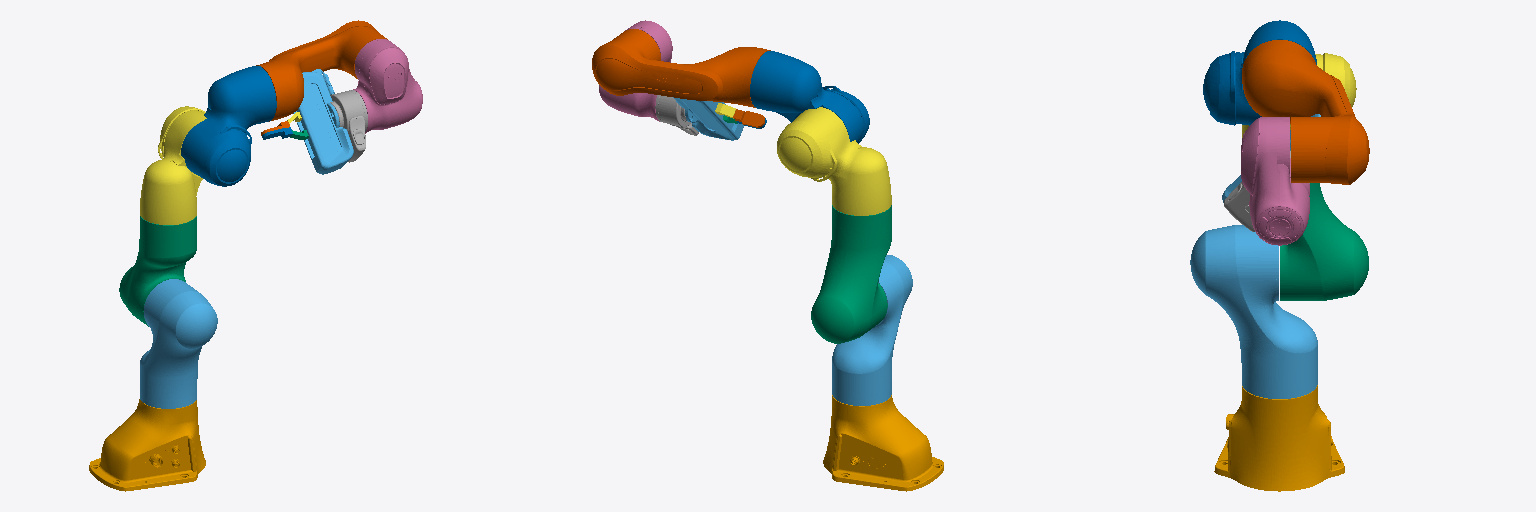
The robot description file, URDF, robot "panda":
<?xml version="1.0" encoding="utf-8"?>
<!-- =================================================================================== -->
<!-- |    This document is a hand edited version of the output autogenerated by xacro  | -->
<!-- |    from panda_arm_hand.urdf.xacro                                               | -->
<!-- =================================================================================== -->
<robot xmlns:drake="http://drake.mit.edu" name="panda">
  <link name="panda_link0">
    <inertial>
      <mass value="2.92"/>
      <origin xyz="-0.025566 -2.88e-05 0.057332" rpy="0 0 0"/>
      <inertia ixx="0.00782229414331" ixy="-1.56191622996e-05" ixz="-0.00126005738123" iyy="0.0109027971813" iyz="1.08233858202e-05" izz="0.0102355503949"/>
    </inertial>
    <visual>
      <origin rpy="1.57079632679 0 0"/>
      <geometry>
        <mesh filename="meshes/visual_drake/link0.obj"/>
      </geometry>
    </visual>
    <collision>
      <origin rpy="0 0 0" xyz="0.02 0.0 0.04"/>
      <geometry>
        <sphere radius="0.06"/>
      </geometry>
    </collision>
    <collision>
      <origin rpy="0 0 0" xyz="0.01 0.05 0.06"/>
      <geometry>
        <sphere radius="0.06"/>
      </geometry>
    </collision>
    <collision>
      <origin rpy="0 0 0" xyz="0.01 -0.05 0.06"/>
      <geometry>
        <sphere radius="0.06"/>
      </geometry>
    </collision>
    <collision>
      <origin rpy="0 0 0" xyz="-0.06 0.0 0.06"/>
      <geometry>
        <sphere radius="0.06"/>
      </geometry>
    </collision>
    <collision>
      <origin rpy="0 0 0" xyz="-0.06 0.05 0.06"/>
      <geometry>
        <sphere radius="0.06"/>
      </geometry>
    </collision>
    <collision>
      <origin rpy="0 0 0" xyz="-0.03 0.05 0.06"/>
      <geometry>
        <sphere radius="0.06"/>
      </geometry>
    </collision>
    <collision>
      <origin rpy="0 0 0" xyz="-0.03 -0.05 0.06"/>
      <geometry>
        <sphere radius="0.06"/>
      </geometry>
    </collision>
    <collision>
      <origin rpy="0 0 0" xyz="-0.06 -0.05 0.06"/>
      <geometry>
        <sphere radius="0.06"/>
      </geometry>
    </collision>
    <collision>
      <origin rpy="0 0 0" xyz="-0.09 -0.05 0.06"/>
      <geometry>
        <sphere radius="0.06"/>
      </geometry>
    </collision>
    <collision>
      <origin rpy="0 0 0" xyz="-0.09 0.0 0.06"/>
      <geometry>
        <sphere radius="0.06"/>
      </geometry>
    </collision>
    <collision>
      <origin rpy="0 0 0" xyz="-0.09 0.05 0.06"/>
      <geometry>
        <sphere radius="0.06"/>
      </geometry>
    </collision>
    <collision>
      <origin rpy="0 0 0" xyz="-0.12 0.0 0.06"/>
      <geometry>
        <sphere radius="0.06"/>
      </geometry>
    </collision>
    <collision>
      <origin rpy="0 0 0" xyz="0.0 0.0 0.113"/>
      <geometry>
        <sphere radius="0.06"/>
      </geometry>
    </collision>
    <collision>
      <origin rpy="0 0 0" xyz="0.0 0.0 0.083"/>
      <geometry>
        <sphere radius="0.06"/>
      </geometry>
    </collision>
  </link>
  <link name="panda_link1">
    <inertial>
      <mass value="2.74"/>
      <origin xyz="0 -0.0324958 -0.0675818" rpy="0 0 0"/>
      <inertia ixx="0.0180416958283" ixy="0.0" ixz="0.0" iyy="0.0159136071891" iyz="0.0046758424612" izz="0.00620690827127"/>
    </inertial>
    <visual>
      <origin rpy="1.57079632679 0 0"/>
      <geometry>
        <mesh filename="meshes/visual_drake/link1.obj"/>
      </geometry>
    </visual>
    <collision>
      <origin rpy="0 0 0" xyz="0.0 0.0 -0.13"/>
      <geometry>
        <sphere radius="0.06"/>
      </geometry>
    </collision>
    <collision>
      <origin rpy="0 0 0" xyz="0.0 0.0 -0.16"/>
      <geometry>
        <sphere radius="0.06"/>
      </geometry>
    </collision>
    <collision>
      <origin rpy="0 0 0" xyz="0.0 0.0 -0.19"/>
      <geometry>
        <sphere radius="0.06"/>
      </geometry>
    </collision>
    <collision>
      <origin rpy="0 0 0" xyz="0.0 -0.04 -0.06"/>
      <geometry>
        <sphere radius="0.06"/>
      </geometry>
    </collision>
    <collision>
      <origin rpy="0 0 0" xyz="0.0 -0.0750 -0.0"/>
      <geometry>
        <sphere radius="0.06"/>
      </geometry>
    </collision>
    <collision>
      <origin rpy="0 0 0" xyz="0.0 -0.0350 -0.0"/>
      <geometry>
        <sphere radius="0.06"/>
      </geometry>
    </collision>
  </link>
  <joint name="panda_joint1" type="revolute">
    <safety_controller k_position="100.0" k_velocity="40.0" soft_lower_limit="-2.8973" soft_upper_limit="2.8973"/>
    <origin rpy="0 0 0" xyz="0 0 0.333"/>
    <parent link="panda_link0"/>
    <child link="panda_link1"/>
    <axis xyz="0 0 1"/>
    <limit effort="87" lower="-2.8973" upper="2.8973" velocity="2.1750"/>
  </joint>
  <link name="panda_link2">
    <inertial>
      <mass value="2.74"/>
      <origin xyz="0 -0.06861 0.0322285" rpy="0 0 0"/>
      <inertia ixx="0.0182856182281" ixy="0.0" ixz="0.0" iyy="0.00621358421175" iyz="-0.00472844221905" izz="0.0161514346309"/>
    </inertial>
    <visual>
      <origin rpy="1.57079632679 0 0"/>
      <geometry>
        <mesh filename="meshes/visual_drake/link2.obj"/>
      </geometry>
    </visual>
    <collision>
      <origin rpy="0 0 0" xyz="0.0 0.0 0.0"/>
      <geometry>
        <sphere radius="0.06"/>
      </geometry>
    </collision>
    <collision>
      <origin rpy="0 0 0" xyz="0.0 0.0 0.035"/>
      <geometry>
        <sphere radius="0.06"/>
      </geometry>
    </collision>
    <collision>
      <origin rpy="0 0 0" xyz="0.0 0.0 0.075"/>
      <geometry>
        <sphere radius="0.06"/>
      </geometry>
    </collision>
    <collision>
      <origin rpy="0 0 0" xyz="0.0 -0.1710 0.0"/>
      <geometry>
        <sphere radius="0.06"/>
      </geometry>
    </collision>
    <collision>
      <origin rpy="0 0 0" xyz="0.0 -0.1360 0.0"/>
      <geometry>
        <sphere radius="0.06"/>
      </geometry>
    </collision>
    <collision>
      <origin rpy="0 0 0" xyz="0.0 -0.070 0.040"/>
      <geometry>
        <sphere radius="0.06"/>
      </geometry>
    </collision>
  </link>
  <joint name="panda_joint2" type="revolute">
    <safety_controller k_position="100.0" k_velocity="40.0" soft_lower_limit="-1.7628" soft_upper_limit="1.7628"/>
    <origin rpy="-1.57079632679 0 0" xyz="0 0 0"/>
    <parent link="panda_link1"/>
    <child link="panda_link2"/>
    <axis xyz="0 0 1"/>
    <limit effort="87" lower="-1.7628" upper="1.7628" velocity="2.1750"/>
  </joint>
  <link name="panda_link3">
    <inertial>
      <mass value="2.38"/>
      <origin xyz="0.0469893 0.0316374 -0.031704" rpy="0 0 0"/>
      <inertia ixx="0.00771376630908" ixy="-0.00248490625138" ixz="-0.00332147581033" iyy="0.00989108008727" iyz="-0.00217796151484" izz="0.00811723558464"/>
    </inertial>
    <visual>
      <origin rpy="1.57079632679 0 0"/>
      <geometry>
        <mesh filename="meshes/visual_drake/link3.obj"/>
      </geometry>
    </visual>
    <collision>
      <origin rpy="0 0 0" xyz="0.0 0.0 -0.11"/>
      <geometry>
        <sphere radius="0.06"/>
      </geometry>
    </collision>
    <collision>
      <origin rpy="0 0 0" xyz="0.0 0.0 -0.07"/>
      <geometry>
        <sphere radius="0.06"/>
      </geometry>
    </collision>
    <collision>
      <origin rpy="0 0 0" xyz="0.0825 0.03 -0.0"/>
      <geometry>
        <sphere radius="0.06"/>
      </geometry>
    </collision>
    <collision>
      <origin rpy="0 0 0" xyz="0.0825 0.06 -0.0"/>
      <geometry>
        <sphere radius="0.06"/>
      </geometry>
    </collision>
    <collision>
      <origin rpy="0 0 0" xyz="0.04 0.03 -0.03"/>
      <geometry>
        <sphere radius="0.06"/>
      </geometry>
    </collision>
  </link>
  <joint name="panda_joint3" type="revolute">
    <safety_controller k_position="100.0" k_velocity="40.0" soft_lower_limit="-2.8973" soft_upper_limit="2.8973"/>
    <origin rpy="1.57079632679 0 0" xyz="0 -0.316 0"/>
    <parent link="panda_link2"/>
    <child link="panda_link3"/>
    <axis xyz="0 0 1"/>
    <limit effort="87" lower="-2.8973" upper="2.8973" velocity="2.1750"/>
  </joint>
  <link name="panda_link4">
    <inertial>
      <mass value="2.38"/>
      <origin xyz="-0.0360446 0.0336853 0.031882" rpy="0 0 0"/>
      <inertia ixx="0.00799663881132" ixy="0.00347095570217" ixz="-0.00241222942995" iyy="0.00825390705278" iyz="0.00235774044121" izz="0.0102515004345"/>
    </inertial>
    <visual>
      <origin rpy="1.57079632679 0 0"/>
      <geometry>
        <mesh filename="meshes/visual_drake/link4.obj"/>
      </geometry>
    </visual>
    <collision>
      <origin rpy="0 0 0" xyz="0.0 0.0 0.06"/>
      <geometry>
        <sphere radius="0.06"/>
      </geometry>
    </collision>
    <collision>
      <origin rpy="0 0 0" xyz="0.0 0.0 0.03"/>
      <geometry>
        <sphere radius="0.06"/>
      </geometry>
    </collision>
    <collision>
      <origin rpy="0 0 0" xyz="-0.0350 0.03 0.04"/>
      <geometry>
        <sphere radius="0.05"/>
      </geometry>
    </collision>
    <collision>
      <origin rpy="0 0 0" xyz="-0.05 0.04 0.01"/>
      <geometry>
        <sphere radius="0.055"/>
      </geometry>
    </collision>
    <collision>
      <origin rpy="0 0 0" xyz="0.0 0.0 0.0"/>
      <geometry>
        <sphere radius="0.06"/>
      </geometry>
    </collision>
    <collision>
      <origin rpy="0 0 0" xyz="-0.0825 0.0640 -0.0"/>
      <geometry>
        <sphere radius="0.06"/>
      </geometry>
    </collision>
    <collision>
      <origin rpy="0 0 0" xyz="-0.0825 0.1040 -0.0"/>
      <geometry>
        <sphere radius="0.06"/>
      </geometry>
    </collision>
  </link>
  <joint name="panda_joint4" type="revolute">
    <safety_controller k_position="100.0" k_velocity="40.0" soft_lower_limit="-3.0718" soft_upper_limit="-0.0698"/>
    <origin rpy="1.57079632679 0 0" xyz="0.0825 0 0"/>
    <parent link="panda_link3"/>
    <child link="panda_link4"/>
    <axis xyz="0 0 1"/>
    <limit effort="87" lower="-3.0718" upper="-0.0698" velocity="2.1750"/>
  </joint>
  <link name="panda_link5">
    <inertial>
      <mass value="2.74"/>
      <origin xyz="0 0.0610427 -0.104176" rpy="0 0 0"/>
      <inertia ixx="0.030371374513" ixy="6.50283587108e-07" ixz="-1.05129179916e-05" iyy="0.0288752887402" iyz="-0.00775653445787" izz="0.00444134056164"/>
    </inertial>
    <visual>
      <origin rpy="1.57079632679 0 0"/>
      <geometry>
        <mesh filename="meshes/visual_drake/link5.obj"/>
      </geometry>
    </visual>
    <collision>
      <origin rpy="0 0 0" xyz="0.0 0.0 -0.24"/>
      <geometry>
        <sphere radius="0.06"/>
      </geometry>
    </collision>
    <collision>
      <origin rpy="0 0 0" xyz="0.0 0.0 -0.21"/>
      <geometry>
        <sphere radius="0.06"/>
      </geometry>
    </collision>
    <collision>
      <origin rpy="0 0 0" xyz="0.0 0.09 -0.055"/>
      <geometry>
        <sphere radius="0.035"/>
      </geometry>
    </collision>
    <collision>
      <origin rpy="0 0 0" xyz="0.0 0.0850 -0.08"/>
      <geometry>
        <sphere radius="0.035"/>
      </geometry>
    </collision>
    <collision>
      <origin rpy="0 0 0" xyz="0.0 0.0850 -0.11"/>
      <geometry>
        <sphere radius="0.035"/>
      </geometry>
    </collision>
    <collision>
      <origin rpy="0 0 0" xyz="0.0 0.08 -0.13"/>
      <geometry>
        <sphere radius="0.035"/>
      </geometry>
    </collision>
    <collision>
      <origin rpy="0 0 0" xyz="0.0 0.08 -0.15"/>
      <geometry>
        <sphere radius="0.035"/>
      </geometry>
    </collision>
    <collision>
      <origin rpy="0 0 0" xyz="0.0 0.07 -0.16"/>
      <geometry>
        <sphere radius="0.04"/>
      </geometry>
    </collision>
    <collision>
      <origin rpy="0 0 0" xyz="0.0 0.08 -0.02"/>
      <geometry>
        <sphere radius="0.05"/>
      </geometry>
    </collision>
    <collision>
      <origin rpy="0 0 0" xyz="0.0 0.08 -0.0"/>
      <geometry>
        <sphere radius="0.055"/>
      </geometry>
    </collision>
    <collision>
      <origin rpy="0 0 0" xyz="0.0 0.05 -0.20"/>
      <geometry>
        <sphere radius="0.055"/>
      </geometry>
    </collision>
    <collision>
      <origin rpy="0 0 0" xyz="0.0 0.07 -0.0"/>
      <geometry>
        <sphere radius="0.06"/>
      </geometry>
    </collision>
  </link>
  <joint name="panda_joint5" type="revolute">
    <safety_controller k_position="100.0" k_velocity="40.0" soft_lower_limit="-2.8973" soft_upper_limit="2.8973"/>
    <origin rpy="-1.57079632679 0 0" xyz="-0.0825 0.384 0"/>
    <parent link="panda_link4"/>
    <child link="panda_link5"/>
    <axis xyz="0 0 1"/>
    <limit effort="12" lower="-2.8973" upper="2.8973" velocity="2.6100"/>
  </joint>
  <link name="panda_link6">
    <inertial>
      <mass value="1.55"/>
      <origin xyz="0.0510509 0.009108 0.0106343" rpy="0 0 0"/>
      <inertia ixx="0.00303336450376" ixy="-0.000437276865508" ixz="0.000629257294877" iyy="0.00404479911567" iyz="0.000130472021025" izz="0.00558234286039"/>
    </inertial>
    <visual>
      <origin rpy="1.57079632679 0 0"/>
      <geometry>
        <mesh filename="meshes/visual_drake/link6.obj"/>
      </geometry>
    </visual>
    <collision>
      <origin rpy="0 0 0" xyz="0.08 0.03 0.0"/>
      <geometry>
        <sphere radius="0.06"/>
      </geometry>
    </collision>
    <collision>
      <origin rpy="0 0 0" xyz="0.04 0.01 0.0"/>
      <geometry>
        <sphere radius="0.06"/>
      </geometry>
    </collision>
    <collision>
      <origin rpy="0 0 0" xyz="0.04 0.0 0.0"/>
      <geometry>
        <sphere radius="0.06"/>
      </geometry>
    </collision>
    <collision>
      <origin rpy="0 0 0" xyz="0.0 0.0 0.01"/>
      <geometry>
        <sphere radius="0.06"/>
      </geometry>
    </collision>
    <collision>
      <origin rpy="0 0 0" xyz="0.0 0.0 -0.03"/>
      <geometry>
        <sphere radius="0.05"/>
      </geometry>
    </collision>
  </link>
  <joint name="panda_joint6" type="revolute">
    <safety_controller k_position="100.0" k_velocity="40.0" soft_lower_limit="-0.0175" soft_upper_limit="3.7525"/>
    <origin rpy="1.57079632679 0 0" xyz="0 0 0"/>
    <parent link="panda_link5"/>
    <child link="panda_link6"/>
    <axis xyz="0 0 1"/>
    <limit effort="12" lower="-0.0175" upper="3.7525" velocity="2.610"/>
  </joint>
  <link name="panda_link7">
    <inertial>
      <mass value="0.54"/>
      <origin xyz="0.0109695 0.0107965 0.0650411" rpy="0 0 0"/>
      <inertia ixx="0.000888868887021" ixy="-0.00012239074652" ixz="3.98699829666e-05" iyy="0.000888001373233" iyz="-9.33825115206e-05" izz="0.0007176834609"/>
    </inertial>
    <visual>
      <origin rpy="1.57079632679 0 0"/>
      <geometry>
        <mesh filename="meshes/visual_drake/link7.obj"/>
      </geometry>
    </visual>
    <collision>
      <origin rpy="0 0 0" xyz="0 0 0.06"/>
      <geometry>
        <sphere radius="0.06"/>
      </geometry>
    </collision>
    <collision>
      <origin rpy="0 0 0" xyz="0 0 0.01"/>
      <geometry>
        <sphere radius="0.05"/>
      </geometry>
    </collision>
  </link>
  <joint name="panda_joint7" type="revolute">
    <safety_controller k_position="100.0" k_velocity="40.0" soft_lower_limit="-2.8973" soft_upper_limit="2.8973"/>
    <origin rpy="1.57079632679 0 0" xyz="0.088 0 0"/>
    <parent link="panda_link6"/>
    <child link="panda_link7"/>
    <axis xyz="0 0 1"/>
    <limit effort="12" lower="-2.8973" upper="2.8973" velocity="2.610"/>
  </joint>
  <link name="panda_link8">
    <inertial>
      <mass value="0.001"/>
      <inertia ixx="6.4e-7" ixy="0.0" ixz="0.0" iyy="6.4e-7" iyz="0.0" izz="6.4e-7"/>
    </inertial>
    <!-- <collision>
      <origin rpy="0 0 0" xyz="0.042 0.042 -0.02"/>
      <geometry>
        <sphere radius="0.04"/>
      </geometry>
    </collision> -->
  </link>
  <joint name="panda_joint8" type="fixed">
    <origin rpy="0 0 0" xyz="0 0 0.107"/>
    <parent link="panda_link7"/>
    <child link="panda_link8"/>
  </joint>
  <joint name="panda_hand_joint" type="fixed">
    <parent link="panda_link8"/>
    <child link="panda_hand"/>
    <origin rpy="0 0 -0.785" xyz="0 0 0"/>
  </joint>
  <link name="panda_hand">
    <inertial>
      <mass value="0.73"/>
      <origin xyz="0 0.0015244 0.0275912" rpy="0 0 0"/>
      <inertia ixx="0.00278560230025" ixy="0.0" ixz="0.0" iyy="0.000400033405336" iyz="0.0" izz="0.00256378041832"/>
    </inertial>
    <visual>
      <origin rpy="1.57079632679 0 0"/>
      <geometry>
        <mesh filename="meshes/visual_drake/hand.obj"/>
      </geometry>
    </visual>
    <collision>
      <origin rpy="0 0 0" xyz="0 -0.06 0.015"/>
      <geometry>
        <sphere radius="0.05"/>
      </geometry>
    </collision>
    <collision>
      <origin rpy="0 0 0" xyz="0 -0.06 0.03"/>
      <geometry>
        <sphere radius="0.05"/>
      </geometry>
    </collision>
    <collision>
      <origin rpy="0 0 0" xyz="0 0 0.03"/>
      <geometry>
        <sphere radius="0.05"/>
      </geometry>
    </collision>
    <collision>
      <origin rpy="0 0 0" xyz="0 0.06 0.03"/>
      <geometry>
        <sphere radius="0.05"/>
      </geometry>
    </collision>
  </link>

  <link name="panda_leftfinger_upper">
    <visual>
      <origin rpy="0 0 0" xyz="0 0 0"/>
      <geometry>
        <mesh filename="meshes/collision/finger_upper_v2.stl"/>
      </geometry>
    </visual>
    <collision>
      <origin rpy="0 0 0" xyz="0 0.02 0.01"/>
      <geometry>
        <sphere radius="0.012"/>
      </geometry>
    </collision>
    <!-- <collision>
      <origin rpy="0 0 0" xyz="0 0 0"/> -->
      <!-- <geometry>
        <mesh filename="meshes/collision/finger_upper_v2.stl"/>
      </geometry> -->
    <!-- </collision> -->
    <inertial>
      <mass value="0.02"/>
      <origin xyz="0 0.0145644 0.0227941" rpy="0 0 0"/>
      <inertia ixx="3.01220925051e-05" ixy="0.0" ixz="0.0" iyy="2.95873808038e-05" iyz="0.0" izz="6.95125211657e-06"/>
    </inertial>
  </link>
  <link name="panda_rightfinger_upper">
    <visual>
      <origin rpy="0 0 3.14" xyz="0 0 0"/>
      <geometry>
        <mesh filename="meshes/collision/finger_upper_v2.stl"/>
      </geometry>
    </visual>
    <collision>
      <origin rpy="0 0 0" xyz="0 -0.02 0.01"/>
      <geometry>
        <sphere radius="0.012"/>
      </geometry>
    </collision>
    <inertial>
      <mass value="0.02"/>
      <origin xyz="0 0.0145644 0.0227941" rpy="0 0 0"/>
      <inertia ixx="3.01220925051e-05" ixy="0.0" ixz="0.0" iyy="2.95873808038e-05" iyz="0.0" izz="6.95125211657e-06"/>
    </inertial>
  </link>
  <joint name="panda_finger_joint1" type="prismatic">
    <parent link="panda_hand"/>
    <child link="panda_leftfinger_upper"/>
    <origin rpy="0 0 0" xyz="0 0 0.065"/>
    <axis xyz="0 1 0"/>
    <limit effort="20" lower="0" upper="0.04" velocity="10"/>
  </joint>
  <joint name="panda_finger_joint2" type="prismatic">
    <parent link="panda_hand"/>
    <child link="panda_rightfinger_upper"/>
    <origin rpy="0 0 0" xyz="0 0 0.065"/>
    <axis xyz="0 -1 0"/>
    <limit effort="20" lower="0" upper="0.04" velocity="10"/>
    <mimic joint="panda_finger_joint1"/>
  </joint>

  <link name="panda_leftfinger_lower">
    <visual>
      <origin rpy="0 0 0" xyz="0 0 0.029"/>
      <geometry>
        <!-- <box size="0.018 0.015 0.108"/> -->
        <mesh filename="meshes/collision/franka_finger_lower_long.stl"/>
      </geometry>
    </visual>
    <collision>
      <origin rpy="0 0 0" xyz="0 0.0115 0.030"/>
      <geometry>
        <sphere radius="0.012"/>
      </geometry>
    </collision>
    <collision>
      <origin rpy="0 0 0" xyz="0 0.0115 0.054"/>
      <geometry>
        <sphere radius="0.012"/>
      </geometry>
    </collision>
    <collision>
      <origin rpy="0 0 0" xyz="0 0.0115 0.076"/>
      <geometry>
        <sphere radius="0.012"/>
      </geometry>
    </collision>
    <!-- <collision> -->
      <!-- <origin rpy="0 0 0" xyz="0 0 0.029"/> -->
      <!-- <geometry> -->
        <!-- <mesh filename="meshes/collision/franka_finger_lower_long.stl"/> -->
        <!-- <box size="0.018 0.015 0.108"/> -->
      <!-- </geometry> -->
    <!-- </collision> -->
    <inertial>
        <mass value="0.01"/>
        <inertia ixx="0.1" ixy="0.0" ixz="0.0" iyy="0.1" iyz="0.0" izz="0.1"/>
      </inertial>
		<!-- <contact>
			<stiffness value="3000.0"/>
			<damping value="100.0"/>
		</contact> -->
  </link>
  <link name="panda_rightfinger_lower">
    <visual>
      <origin rpy="0 0 3.14" xyz="0 0 0.029"/>
      <geometry>
        <!-- <box size="0.018 0.015 0.108"/> -->
        <mesh filename="meshes/collision/franka_finger_lower_long.stl"/>
      </geometry>
    </visual>
    <!-- <collision> -->
      <!-- <origin rpy="0 0 3.14" xyz="0 0 0.029"/> -->
      <!-- <geometry> -->
        <!-- <mesh filename="meshes/collision/franka_finger_lower_long.stl"/> -->
        <!-- <box size="0.018 0.015 0.108"/> -->
      <!-- </geometry> -->
    <!-- </collision> -->
    <collision>
      <origin rpy="0 0 0" xyz="0 -0.0115 0.030"/>
      <geometry>
        <sphere radius="0.012"/>
      </geometry>
    </collision>
    <collision>
      <origin rpy="0 0 0" xyz="0 -0.0115 0.054"/>
      <geometry>
        <sphere radius="0.012"/>
      </geometry>
    </collision>
    <collision>
      <origin rpy="0 0 0" xyz="0 -0.0115 0.076"/>
      <geometry>
        <sphere radius="0.012"/>
      </geometry>
    </collision>
    <inertial>
        <mass value="0.01"/>
        <inertia ixx="0.1" ixy="0.0" ixz="0.0" iyy="0.1" iyz="0.0" izz="0.1"/>
    </inertial>
		<!-- <contact>
			<stiffness value="3000.0"/>
			<damping value="100.0"/>
		</contact> -->
  </link>
  <joint name="panda_finger_lower_joint1" type="fixed">
    <parent link="panda_leftfinger_upper"/>
    <child link="panda_leftfinger_lower"/>
    <origin rpy="0 0 0" xyz="0 0 0"/>
  </joint>
  <joint name="panda_finger_lower_joint2" type="fixed">
    <parent link="panda_rightfinger_upper"/>
    <child link="panda_rightfinger_lower"/>
    <origin rpy="0 0 0" xyz="0 0 0"/>
    <mimic joint="panda_finger_lower_joint1"/>
  </joint>
</robot>

--- Render facts (derived) ---
3 views of the same robot in one strip: view 1: azimuth 30°, elevation 25°; view 2: azimuth 150°, elevation 25°; view 3: azimuth 270°, elevation 25° (orthographic).
Robot: panda — 14 links, 13 joints (7 revolute, 2 prismatic, 4 fixed); root link panda_link0; default pose: all joints at 0 but 1 set to mid-range because 0 is outside their limits (panda_joint4 = -1.57).
Links seen in each view (by area): view 1: panda_link0, panda_link1, panda_link4, panda_link3, panda_link5, panda_link6, panda_link2, panda_hand, panda_link7; view 2: panda_link0, panda_link5, panda_link2, panda_link3, panda_link1, panda_link4, panda_link6, panda_hand, panda_link7; view 3: panda_link1, panda_link5, panda_link0, panda_link2, panda_link6, panda_link4, panda_link3, panda_link7.
Link boxes in pixels (bbox=[...]): panda_link0: bbox=[89, 399, 205, 491]; panda_link1: bbox=[140, 279, 217, 408]; panda_link4: bbox=[181, 66, 276, 186]; panda_link3: bbox=[140, 106, 206, 224]; panda_link5: bbox=[256, 20, 387, 121]; panda_link6: bbox=[353, 39, 422, 133]; panda_link2: bbox=[119, 216, 196, 326]; panda_hand: bbox=[293, 69, 353, 174]; panda_link7: bbox=[330, 90, 367, 162]; panda_link0: bbox=[823, 395, 943, 491]; panda_link5: bbox=[592, 29, 770, 107]; panda_link2: bbox=[811, 205, 891, 343]; panda_link3: bbox=[777, 107, 891, 215]; panda_link1: bbox=[832, 255, 912, 405]; panda_link4: bbox=[750, 51, 869, 143]; panda_link6: bbox=[599, 20, 672, 121]; panda_hand: bbox=[673, 97, 743, 140]; panda_link7: bbox=[655, 95, 698, 135]; panda_link1: bbox=[1190, 225, 1317, 398]; panda_link5: bbox=[1242, 40, 1369, 184]; panda_link0: bbox=[1214, 385, 1344, 491]; panda_link2: bbox=[1280, 183, 1368, 300]; panda_link6: bbox=[1241, 117, 1309, 245]; panda_link4: bbox=[1203, 20, 1316, 125]; panda_link3: bbox=[1242, 53, 1356, 137]; panda_link7: bbox=[1224, 151, 1309, 231].
Size in the robot's own frame: 0.7022 by 0.2593 by 0.7865 metres.
Meshes: 11 distinct files referenced, 13 mesh visuals loaded (2 binary STL, 9 OBJ).